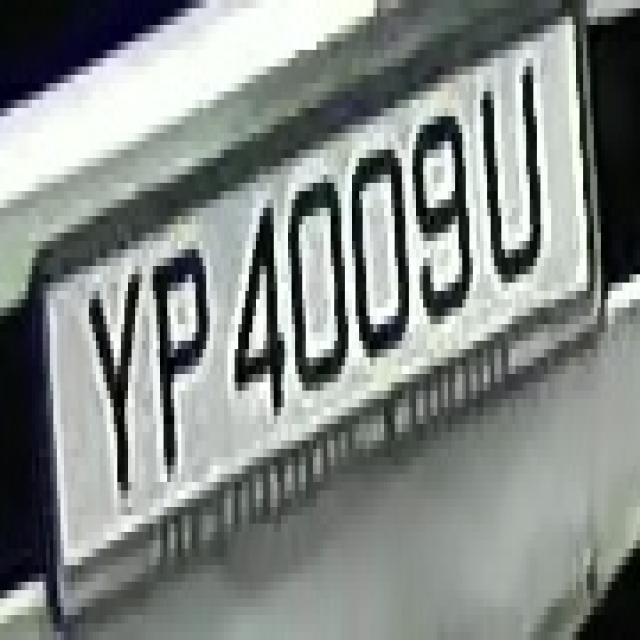0: (281, 125, 352, 449), (334, 108, 406, 382)
4: (228, 175, 295, 457)
9: (402, 116, 469, 341)
P: (132, 199, 214, 507)
U: (469, 50, 555, 307)
Y: (78, 224, 146, 524)
